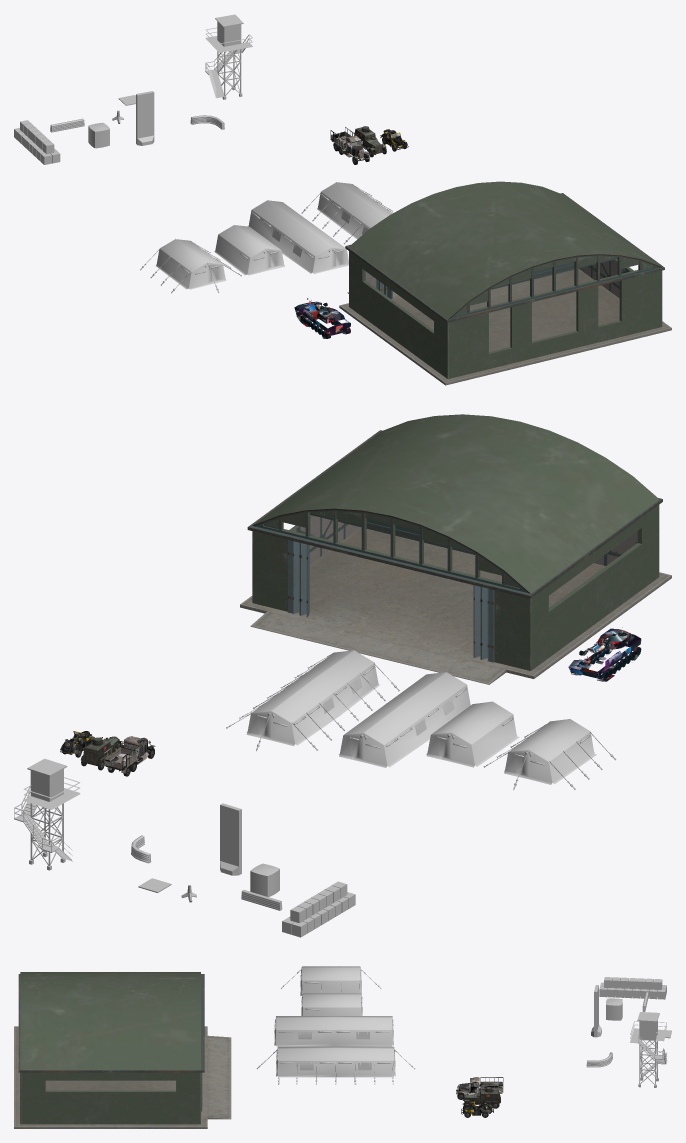
File: Camp assest.fbx
The picture shows the model from 3 angles, top to bottom: view 1: azimuth 30°, elevation 25°; view 2: azimuth 150°, elevation 25°; view 3: azimuth 270°, elevation 25°; orthographic projection. The views are drawn at different scales.
Visible parts, largest first — view 1: model_1_Mesh1, camp2, camp1, camp4, camp3, tower, tank, bori, wal, truck1, truck; view 2: model_1_Mesh1, camp1, camp2, camp4, camp3, tower, bori, tank, wal, truck1, borii, truck; view 3: model_1_Mesh1, camp1, camp2, camp4, tower, camp3, bori, truck1, truck, borii, car, wal.
Boxes of the visible parts, bbox=[...] form: model_1_Mesh1: bbox=[339, 181, 671, 385]; camp2: bbox=[248, 200, 348, 273]; camp1: bbox=[301, 182, 392, 244]; camp4: bbox=[140, 239, 241, 293]; camp3: bbox=[214, 225, 284, 275]; tower: bbox=[205, 14, 252, 99]; tank: bbox=[294, 298, 350, 338]; bori: bbox=[14, 120, 60, 164]; wal: bbox=[136, 91, 154, 145]; truck1: bbox=[330, 126, 369, 164]; truck: bbox=[354, 126, 386, 157]; model_1_Mesh1: bbox=[240, 414, 671, 684]; camp1: bbox=[226, 650, 399, 751]; camp2: bbox=[339, 672, 470, 767]; camp4: bbox=[483, 719, 616, 790]; camp3: bbox=[426, 701, 519, 767]; tower: bbox=[14, 758, 80, 870]; bori: bbox=[282, 881, 355, 937]; tank: bbox=[568, 627, 641, 681]; wal: bbox=[220, 803, 241, 875]; truck1: bbox=[104, 736, 155, 776]; borii: bbox=[250, 863, 279, 896]; truck: bbox=[81, 736, 123, 770]; model_1_Mesh1: bbox=[14, 972, 231, 1128]; camp1: bbox=[256, 1046, 415, 1084]; camp2: bbox=[274, 1016, 393, 1046]; camp4: bbox=[281, 966, 381, 996]; tower: bbox=[630, 1012, 667, 1087]; camp3: bbox=[301, 993, 362, 1015]; bori: bbox=[599, 977, 666, 999]; truck1: bbox=[456, 1077, 503, 1099]; truck: bbox=[462, 1087, 500, 1108]; borii: bbox=[606, 998, 622, 1020]; car: bbox=[461, 1101, 493, 1117]; wal: bbox=[591, 985, 601, 1037].
Bounding box in the file's own units: 4321 × 1152 × 7901.
